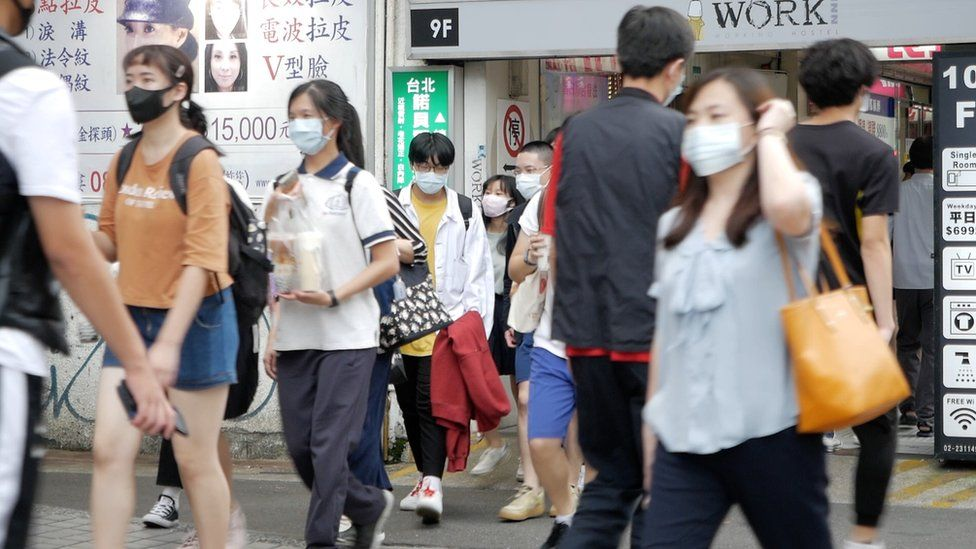with_mask: (684, 94, 754, 171), (124, 63, 168, 116), (290, 98, 325, 150), (416, 152, 444, 191), (478, 175, 500, 217), (519, 153, 542, 192)
without_mask: (204, 43, 246, 91)
